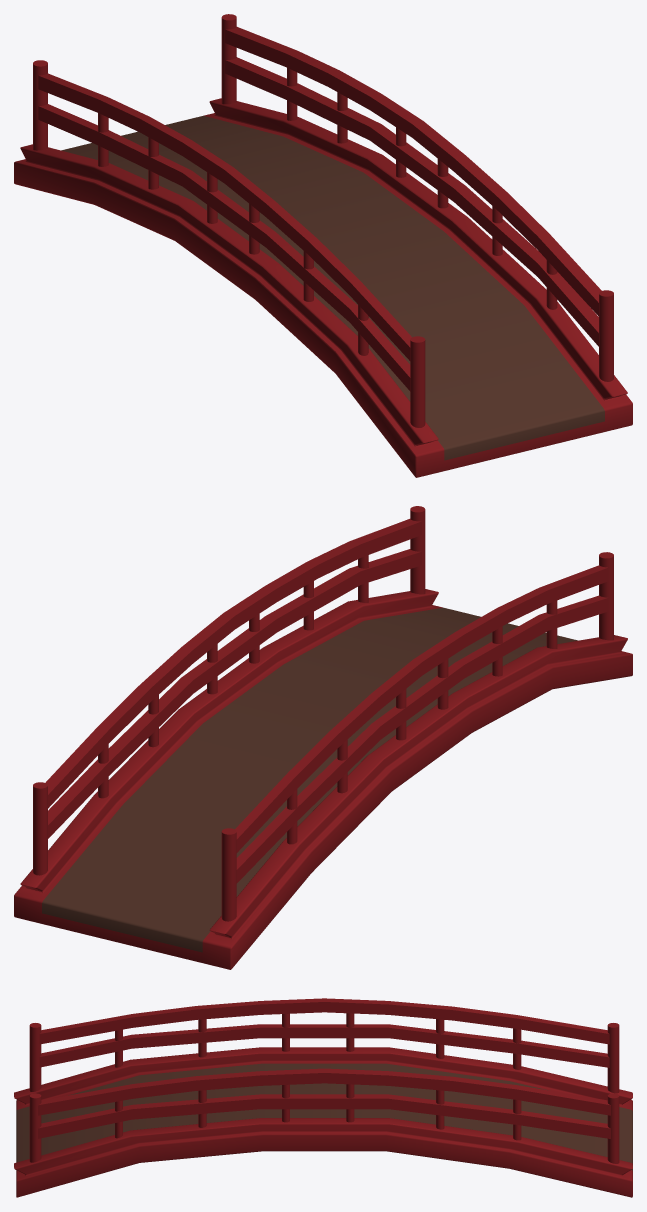
Rendered from Bridges2.fbx.
The picture shows the model from 3 angles, top to bottom: view 1: azimuth 30°, elevation 25°; view 2: azimuth 150°, elevation 25°; view 3: azimuth 270°, elevation 25°; orthographic projection. The views are drawn at different scales.
Visible parts, largest first — view 1: Cube.005, Cube.007, Cube.008, Cube.006, Cube.009, Cylinder.001, Cylinder.002, Cylinder.017, Cylinder.018; view 2: Cube.005, Cube.007, Cube.008, Cube.006, Cube.009, Cylinder.017, Cylinder.018, Cylinder.001, Cylinder.002; view 3: Cube.005, Cube.007, Cube.008, Cube.006, Cube.009, Cylinder.017, Cylinder.001, Cylinder.018, Cylinder.002.
Part boxes in pixels (<box>): Cube.005: <box>14,98,632,477</box>; Cube.007: <box>225,27,601,316</box>; Cube.008: <box>225,57,598,346</box>; Cube.006: <box>38,73,411,360</box>; Cube.009: <box>38,104,410,391</box>; Cylinder.001: <box>410,336,425,427</box>; Cylinder.002: <box>599,290,613,381</box>; Cylinder.017: <box>33,60,47,150</box>; Cylinder.018: <box>221,14,236,104</box>; Cube.005: <box>14,589,632,969</box>; Cube.007: <box>45,519,421,808</box>; Cube.008: <box>48,549,421,838</box>; Cube.006: <box>235,565,608,852</box>; Cube.009: <box>236,595,608,883</box>; Cylinder.017: <box>221,828,236,921</box>; Cylinder.018: <box>33,782,47,875</box>; Cylinder.001: <box>599,552,613,640</box>; Cylinder.002: <box>410,506,425,594</box>; Cube.005: <box>14,1047,632,1197</box>; Cube.007: <box>38,1068,610,1115</box>; Cube.008: <box>38,1094,610,1138</box>; Cube.006: <box>39,998,609,1044</box>; Cube.009: <box>39,1024,609,1067</box>; Cylinder.017: <box>607,1023,619,1093</box>; Cylinder.001: <box>29,1023,41,1091</box>; Cylinder.018: <box>607,1093,619,1163</box>; Cylinder.002: <box>29,1093,41,1162</box>.
Bounding box in the file's own units: 300 × 209 × 964.
